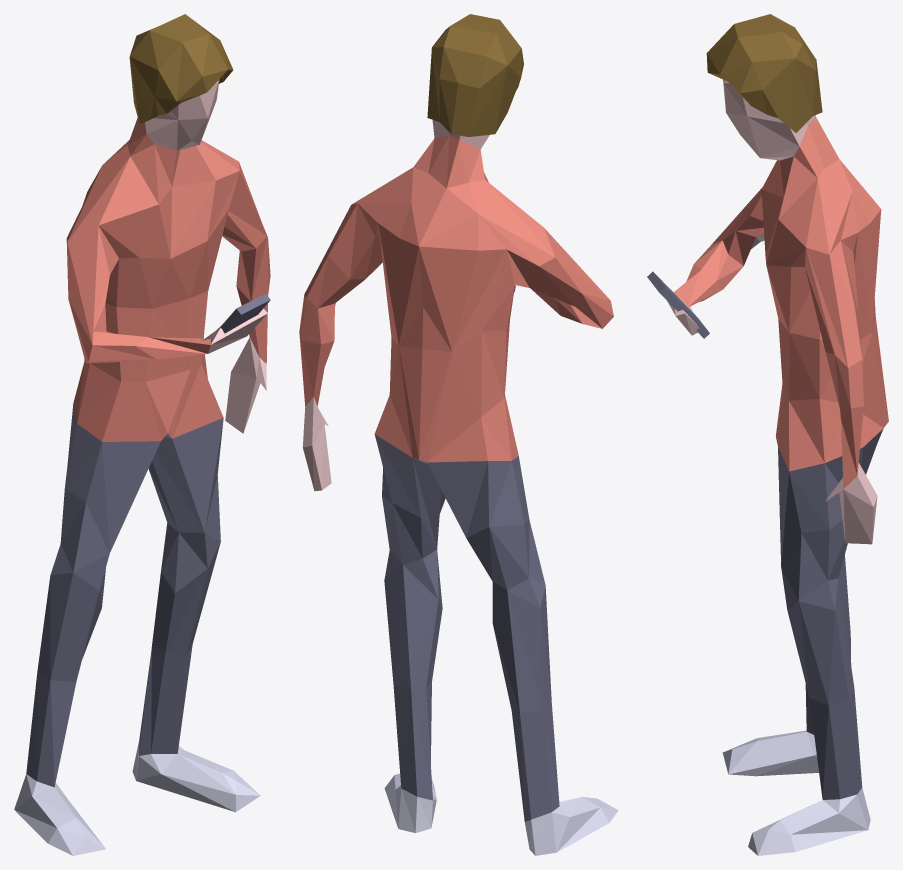
File: man.gltf
The picture shows the model from 3 angles, left to right: view 1: azimuth 30°, elevation 25°; view 2: azimuth 150°, elevation 25°; view 3: azimuth 270°, elevation 25°; orthographic projection. The views are drawn at different scales.
Visible parts, largest first — view 1: ManShirt, ManPants/Phone, ManShoes, ManHair, ManSkin; view 2: ManShirt, ManPants/Phone, ManHair, ManShoes, ManSkin; view 3: ManShirt, ManPants/Phone, ManHair, ManShoes, ManSkin.
Boxes of the visible parts, <box> form: ManShirt: <box>66,118,270,441</box>; ManPants/Phone: <box>26,294,270,787</box>; ManShoes: <box>14,741,260,855</box>; ManHair: <box>129,14,233,124</box>; ManSkin: <box>145,79,267,433</box>; ManShirt: <box>299,135,613,462</box>; ManPants/Phone: <box>374,285,559,821</box>; ManHair: <box>427,14,523,136</box>; ManShoes: <box>384,773,618,855</box>; ManSkin: <box>302,120,528,491</box>; ManShirt: <box>673,117,888,488</box>; ManPants/Phone: <box>647,271,883,799</box>; ManHair: <box>706,14,822,132</box>; ManShoes: <box>722,730,870,855</box>; ManSkin: <box>667,79,877,544</box>.
Bounding box in the file's own units: 56.19 × 158 × 43.51.
